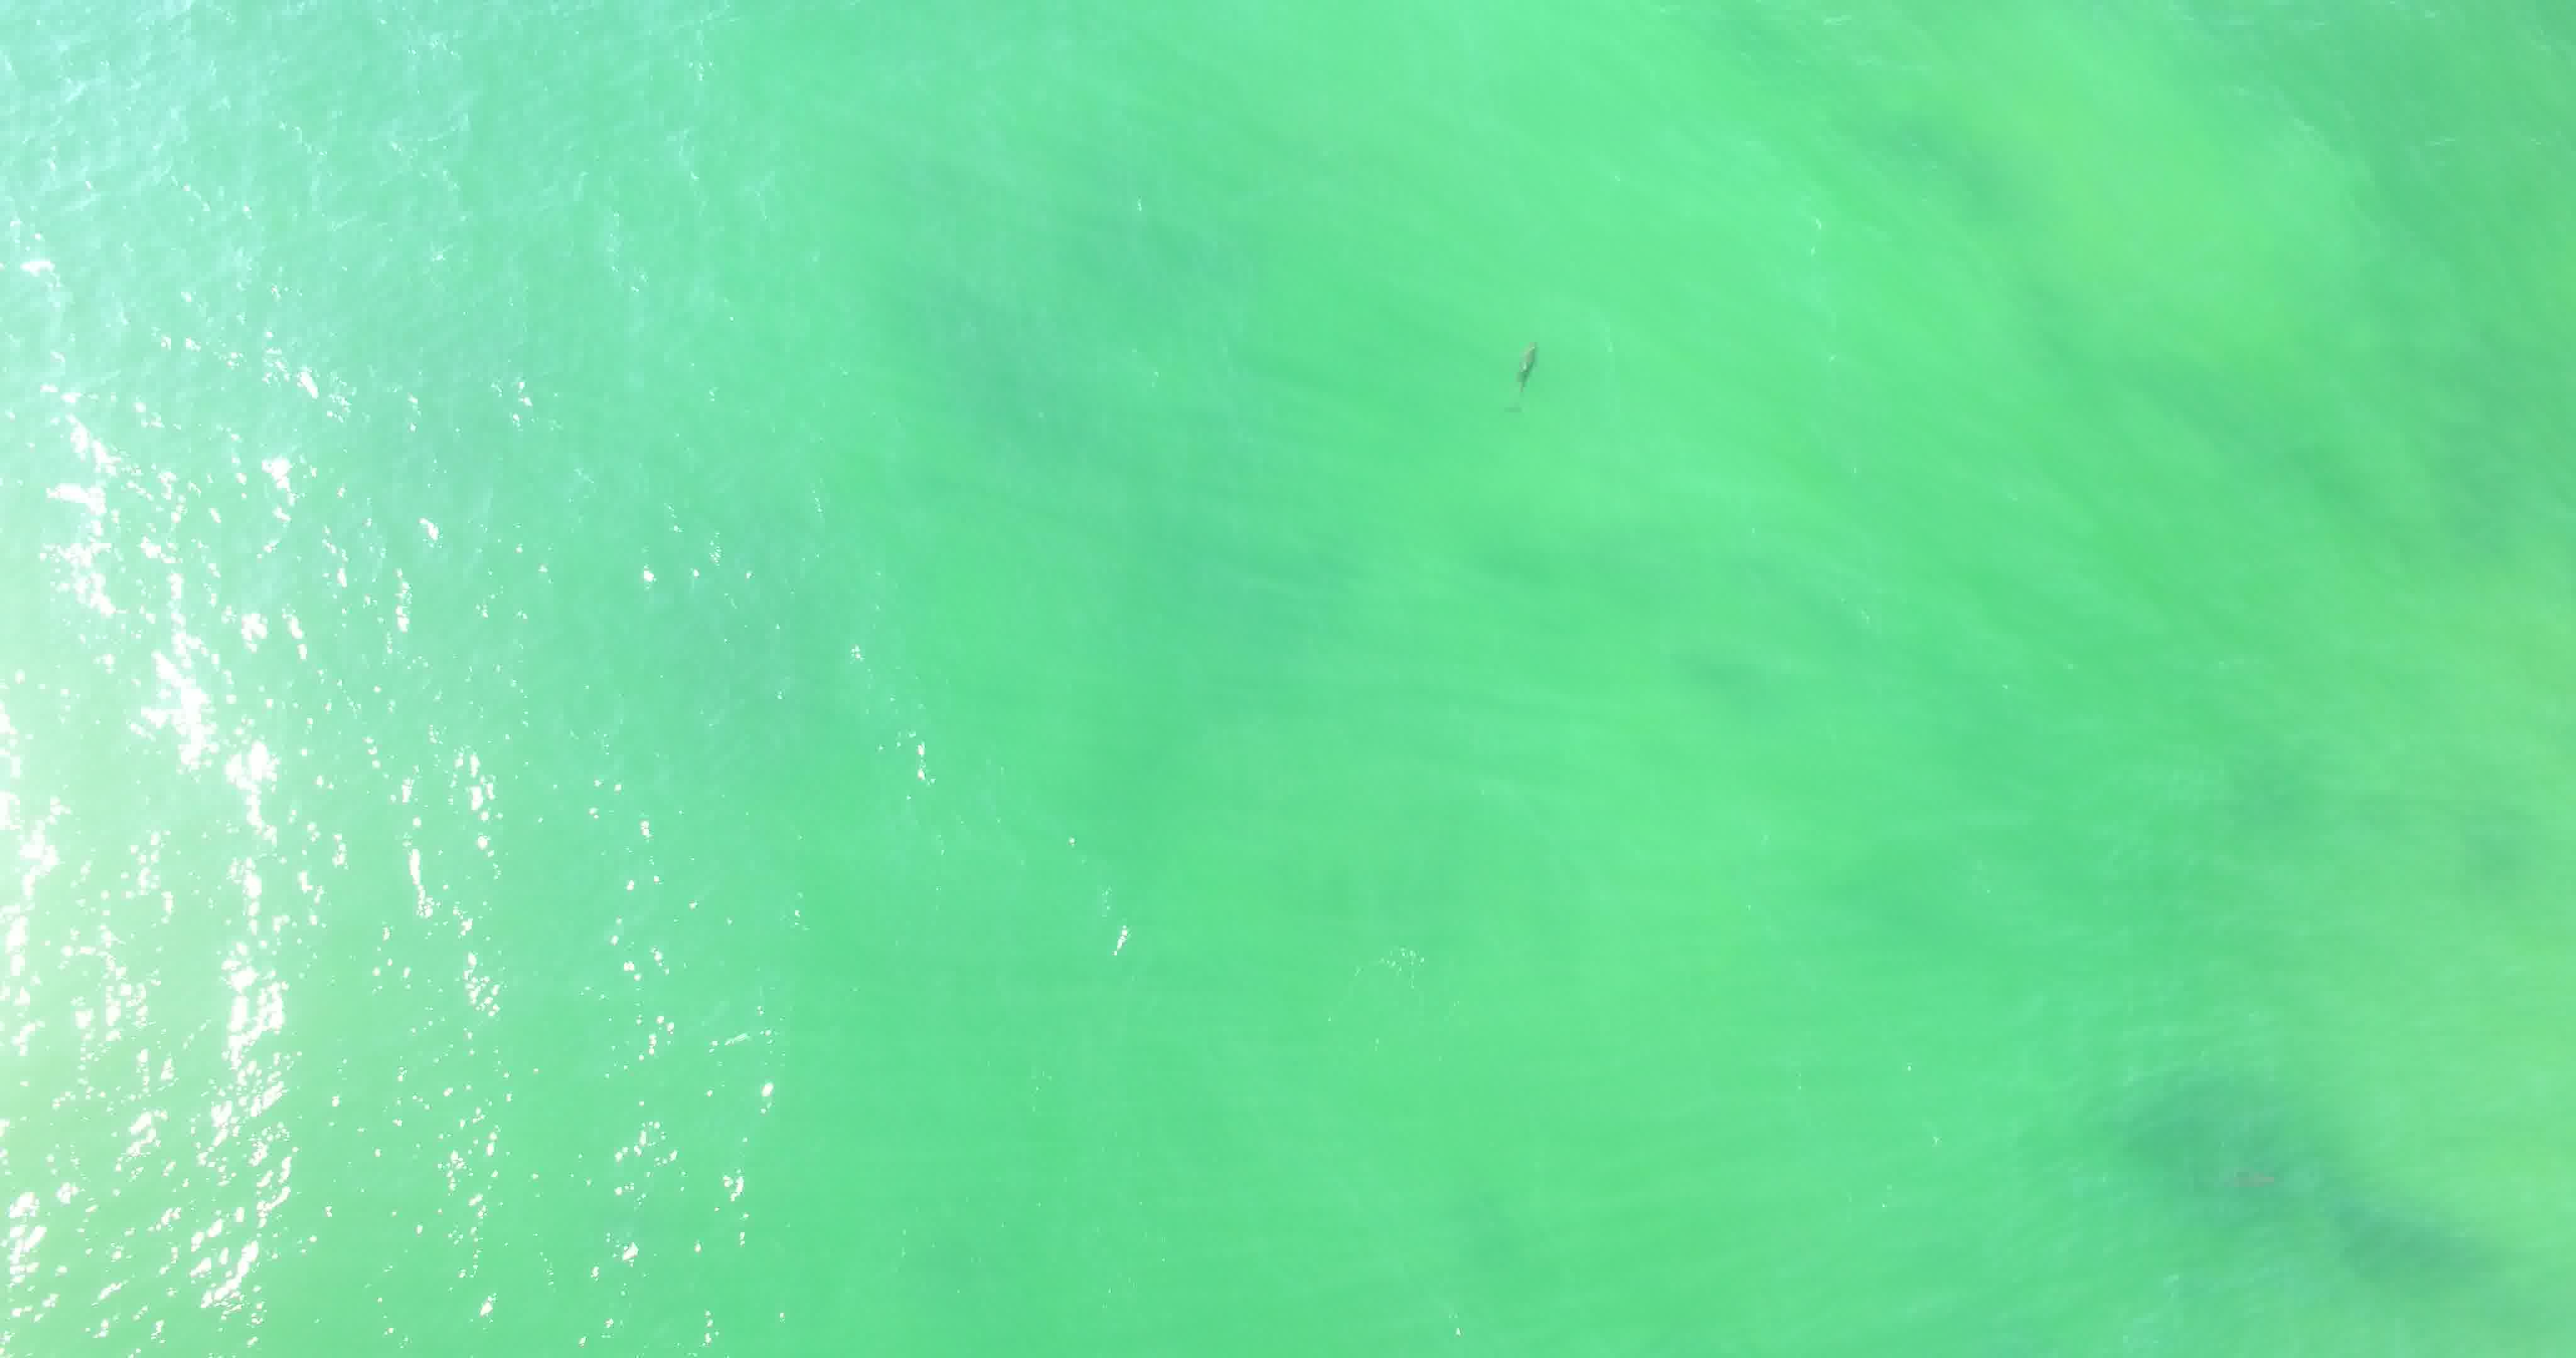dolphin: (1498, 314, 1552, 434)
